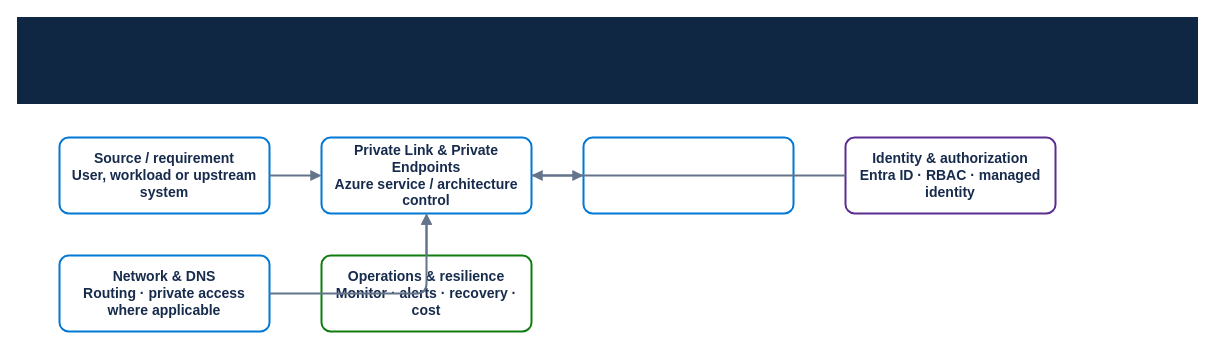
Some shapes in this 1215 by 350 pixel diagram are drawn without their labels. Each missing label, with the centre of its shape:
Private Link & Private Endpoints: point (607, 60)
Workload / consumer Application, data or operational outcome: point (688, 175)
